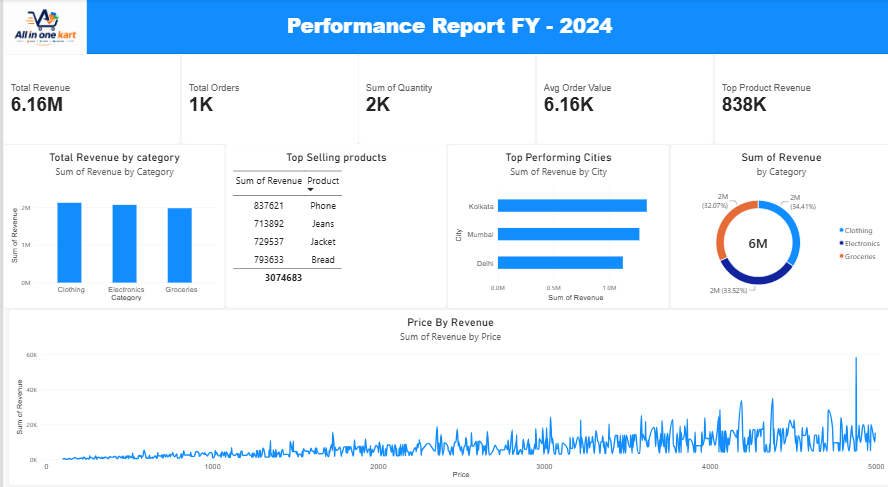

The page's visual inventory and layout, read from the dashboard file:
{"tool":"powerbi","page":{"name":"Page 1","canvas":[1920,1080],"ordinal":0},"visuals":[{"type":"shape","box":[10.8,0,1909.4,118.8],"z":0},{"type":"image","box":[0,0,183.6,118.8],"z":1000},{"type":"textbox","box":[602.6,25.9,723.6,67],"z":2000},{"type":"cardVisual","fields":{"Data":["Sum(1777445128882-harrykart_ecommerce_data.Revenue)"]},"box":[0,118.8,384,195],"z":3000},{"type":"lineChart","title":"Price By Revenue","fields":{"Category":["1777445128882-harrykart_ecommerce_data.Price"],"Y":["Sum(1777445128882-harrykart_ecommerce_data.Revenue)"]},"box":[10,670,1910,382],"z":4000},{"type":"columnChart","title":"Total Revenue by category","fields":{"Category":["1777445128882-harrykart_ecommerce_data.Category"],"Y":["Sum(1777445128882-harrykart_ecommerce_data.Revenue)"]},"box":[0,312.5,480,356.4],"z":5000},{"type":"tableEx","title":"Top Selling products","fields":{"Values":["Sum(1777445128882-harrykart_ecommerce_data.Revenue)","1777445128882-harrykart_ecommerce_data.Product"]},"box":[480,312,480,356.6],"z":6000},{"type":"cardVisual","fields":{"Data":["CountNonNull(1777445128882-harrykart_ecommerce_data.Revenue)"]},"box":[384.5,118.8,384,195],"z":7000},{"type":"cardVisual","fields":{"Data":["Sum(1777445128882-harrykart_ecommerce_data.Quantity)"]},"box":[766.8,118.8,384,195],"z":8000},{"type":"clusteredBarChart","title":"Top Performing Cities","fields":{"Category":["1777445128882-harrykart_ecommerce_data.City"],"Y":["Sum(1777445128882-harrykart_ecommerce_data.Revenue)"]},"box":[959,313.2,480,356.4],"z":9000},{"type":"cardVisual","fields":{"Data":["1777445128882-harrykart_ecommerce_data.Avg Order Value"]},"box":[1151.3,118.8,384,195],"z":10000},{"type":"donutChart","fields":{"Category":["1777445128882-harrykart_ecommerce_data.Category"],"Y":["Sum(1777445128882-harrykart_ecommerce_data.Revenue)"]},"box":[1440,314,480,356],"z":11000},{"type":"cardVisual","fields":{"Data":["1777445128882-harrykart_ecommerce_data.Top Product Revenue"]},"box":[1535.8,118.8,384,195],"z":12000}]}

Visuals, with their boxes in screenshot pixels (x1, y1, x2, y2), scaled from the page's 1920x1080 canvas onto the 888x487 screenshot:
shape: [left=5, top=0, right=887, bottom=54]
image: [left=0, top=0, right=85, bottom=54]
textbox: [left=279, top=12, right=613, bottom=42]
cardVisual - Sum(1777445128882-harrykart_ecommerce_data.Revenue): [left=0, top=54, right=178, bottom=142]
"Price By Revenue" lineChart: [left=5, top=302, right=887, bottom=474]
"Total Revenue by category" columnChart: [left=0, top=141, right=222, bottom=302]
"Top Selling products" tableEx: [left=222, top=141, right=444, bottom=301]
cardVisual - CountNonNull(1777445128882-harrykart_ecommerce_data.Revenue): [left=178, top=54, right=355, bottom=142]
cardVisual - Sum(1777445128882-harrykart_ecommerce_data.Quantity): [left=355, top=54, right=532, bottom=142]
"Top Performing Cities" clusteredBarChart: [left=444, top=141, right=666, bottom=302]
cardVisual - 1777445128882-harrykart_ecommerce_data.Avg Order Value: [left=532, top=54, right=710, bottom=142]
donutChart - 1777445128882-harrykart_ecommerce_data.Category x Sum(1777445128882-harrykart_ecommerce_data.Revenue): [left=666, top=142, right=887, bottom=302]
cardVisual - 1777445128882-harrykart_ecommerce_data.Top Product Revenue: [left=710, top=54, right=887, bottom=142]
